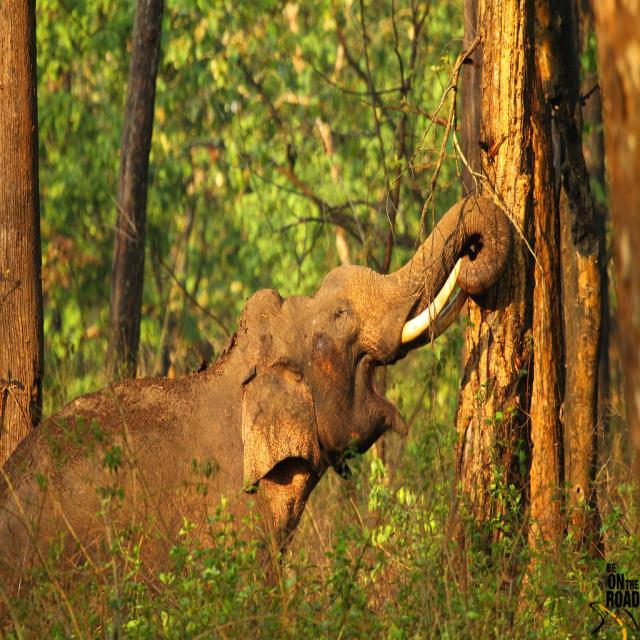elephant: (51, 160, 529, 590)
